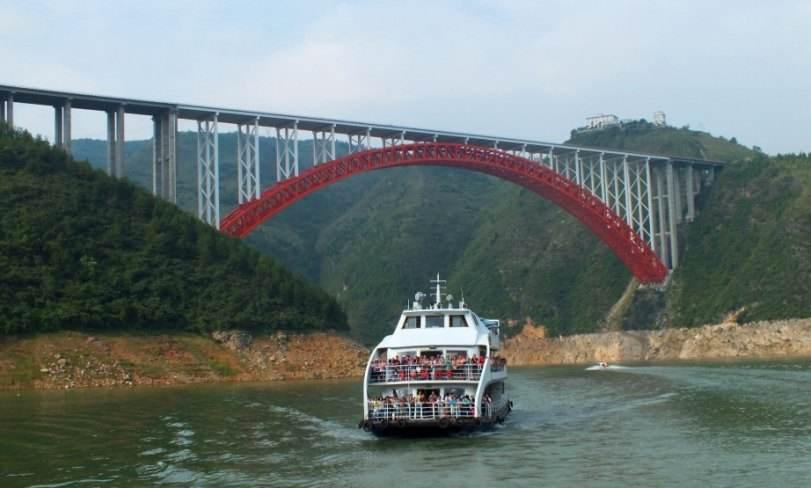otherboat: (353, 278, 512, 440)
